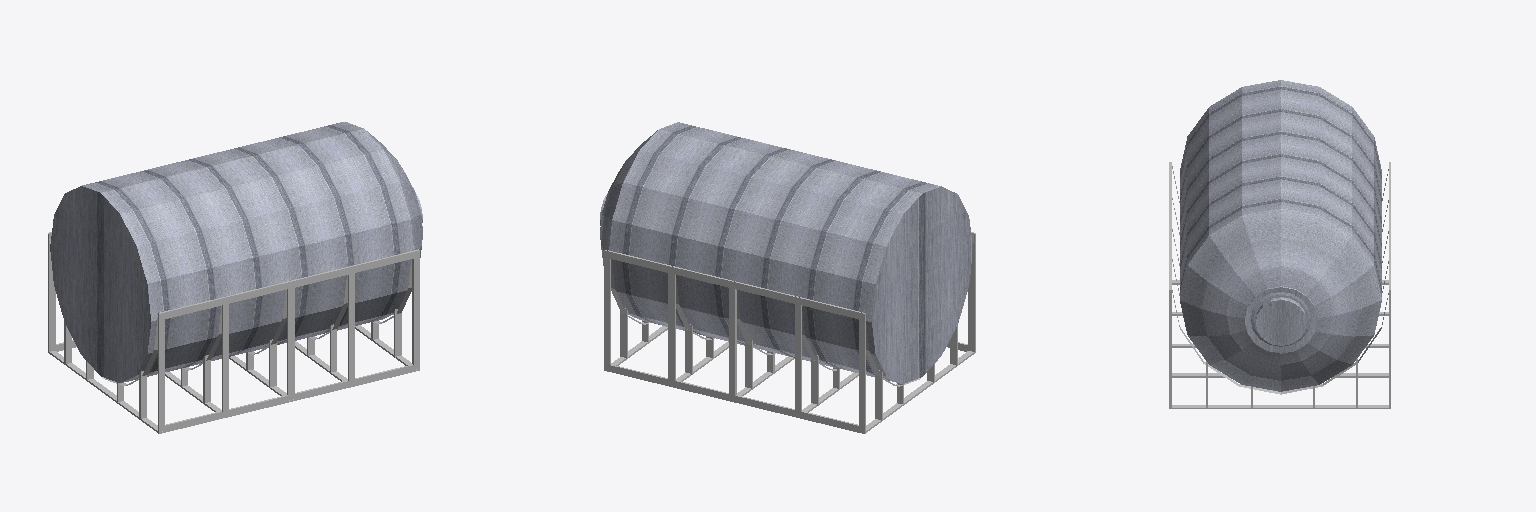
The picture shows the model from 3 angles: view 1: azimuth 30°, elevation 25°; view 2: azimuth 150°, elevation 25°; view 3: azimuth 270°, elevation 25°; orthographic projection.
Visible parts, largest first — view 1: __, ___.38, ___.37, ___.15, ___.29, ___.1, ___.26, ___.12, ___.2, ___; view 2: __, ___.35, ___.36, ___.27, ___.14, ___.13, ___, ___.28, ___.1, ___.2; view 3: __, __.1, __.2, ___.30.
Boxes of the visible parts, x1,y1,x2,y2 form: __: [49, 122, 422, 385]; ___.38: [158, 249, 419, 320]; ___.37: [159, 364, 419, 432]; ___.15: [287, 288, 294, 395]; ___.29: [412, 257, 419, 364]; ___.1: [158, 314, 164, 431]; ___.26: [348, 273, 354, 380]; ___.12: [222, 304, 228, 411]; ___.2: [48, 351, 164, 433]; ___: [48, 233, 55, 351]; __: [600, 122, 973, 386]; ___.35: [604, 250, 865, 320]; ___.36: [604, 364, 864, 433]; ___.27: [668, 266, 675, 384]; ___.14: [729, 282, 736, 400]; ___.13: [795, 297, 801, 416]; ___: [859, 313, 865, 431]; ___.28: [604, 251, 610, 368]; ___.1: [968, 233, 975, 351]; ___.2: [865, 351, 975, 433]; __: [1172, 80, 1388, 391]; __.1: [1172, 259, 1388, 394]; __.2: [1245, 286, 1317, 353]; ___.30: [1169, 405, 1390, 408].
Bounding box in the file's own units: 672 × 417 × 417.
2 materials, 2 textured.